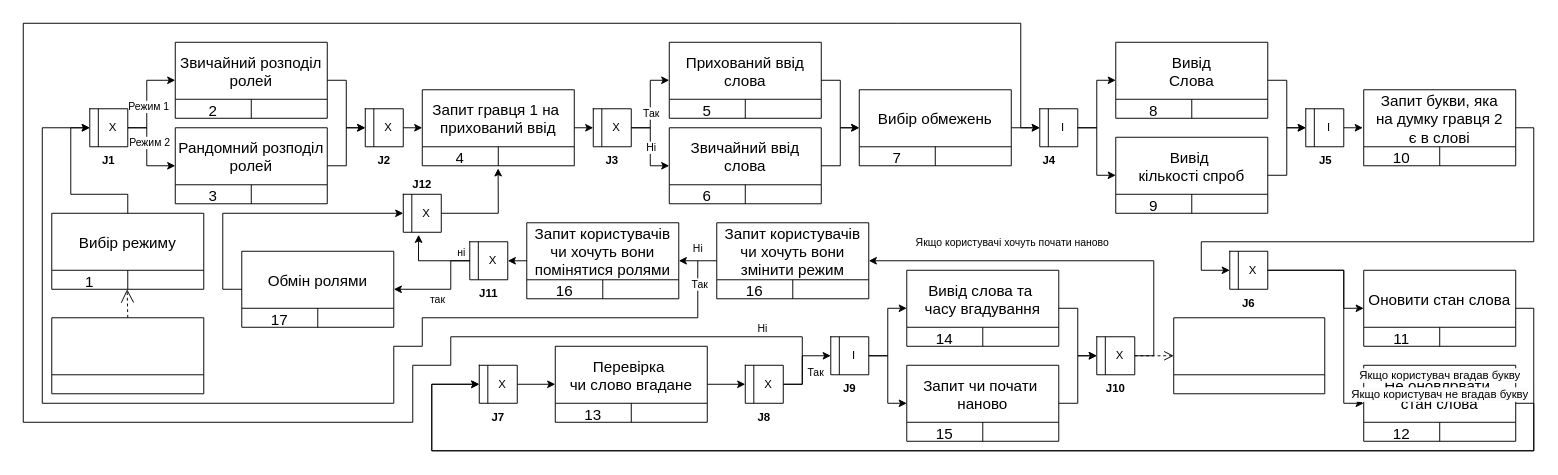
This 1558x475 diagram has some shape labels left out. Each missing label, with the centre of its shape:
Завершити програму: pixel 1249 355
Початок програми: pixel 127 355
